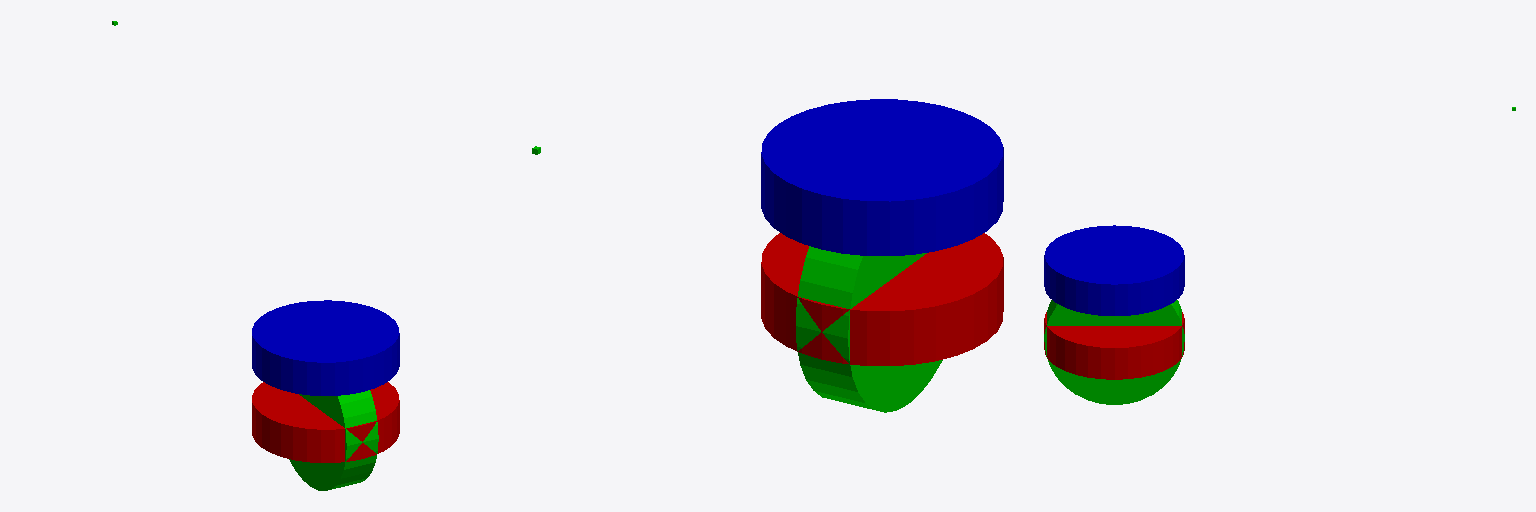
URDF robot description (mira):
<robot name="mira">

    <material name="blue">
        <color rgba="0 0 0.8 1"/>
    </material>
    <material name="red">
        <color rgba="0.8 0 0 1"/>
    </material>
    <material name="green">
        <color rgba="0 0.8 0 1"/>
    </material>

    <gazebo>
        <plugin name="gazebo_ros_control" filename="libgazebo_ros_control.so">
            <robotNamespace>/mira</robotNamespace>
        </plugin>
    </gazebo>

	<!-- * * * Link Definitions * * * -->
    <link name="base_link">
 	    <inertial>
            <origin xyz="0 0 0" rpy="0 0 0"/>
            <mass value="0.18" />
            <inertia ixx="0.0002835" ixy="0.0" ixz="0.0" iyy="0.0002835" iyz="0.0" izz="0.000324"/>
        </inertial>
        <collision>
            <origin xyz="0 0 0" rpy="0 0 0"/>
            <geometry>
                <cylinder radius="0.06" length="0.09"/>
            </geometry>
        </collision>
        <visual>
            <origin rpy="0.0 0 0" xyz="0 0 0"/>
            <geometry>
                <mesh filename="package://mira_description/models/mira/meshes/mira_body_v3.dae"/>
            </geometry>
        </visual>
	</link>

    <gazebo reference="roll_M1_link">
        <kp>1000.0</kp>
        <kd>10.0</kd>
        <mu1>10.0</mu1>
        <mu2>10.0</mu2>
    </gazebo>

    <link name="roll_M1_link">
        <!-- Inertial for gazebo to take it into account, Put 1gr weight -->
        <inertial>
            <origin xyz="0 0 0" rpy="0 0 0"/>
            <mass value="0.001" />
            <inertia ixx="2.70833333333e-08" ixy="0.0" ixz="0.0" iyy="2.70833333333e-08" iyz="0.0" izz="5e-08"/>
        </inertial>
        <visual>
            <origin rpy="0 0 0" xyz="0 0 0"/>
            <geometry>
                <cylinder length="0.005" radius="0.01"/>
            </geometry>
            <material name="red"/>
        </visual>
    </link>
    <!-- This is for color and physical properties in Gazebo, color won't work with the material tag in gazebo
    only for URDF coloring -->
    <gazebo reference="roll_M1_link">
        <kp>1000.0</kp>
        <kd>10.0</kd>
        <mu1>10.0</mu1>
        <mu2>10.0</mu2>
        <material>Gazebo/Red</material>
    </gazebo>

    <joint name="roll_joint" type="revolute">
    	<parent link="base_link"/>
    	<child link="roll_M1_link"/>
        <origin xyz="0.0023 0 -0.0005" rpy="0 0 0"/>
        <limit lower="-0.2" upper="0.2" effort="0.1" velocity="0.005"/>
        <axis xyz="1 0 0"/>
	</joint>

    <transmission name="tran1">
        <type>transmission_interface/SimpleTransmission</type>
        <joint name="roll_joint">
            <hardwareInterface>EffortJointInterface</hardwareInterface>
        </joint>
        <actuator name="motor1">
            <hardwareInterface>EffortJointInterface</hardwareInterface>
            <mechanicalReduction>1</mechanicalReduction>
        </actuator>
    </transmission>


    <link name="pitch_M2_link">
        <!-- Inertial for gazebo to take it into account, Put 1gr weight -->
        <inertial>
            <origin xyz="0 0 0" rpy="0 0 0"/>
            <mass value="0.001" />
            <inertia ixx="2.70833333333e-08" ixy="0.0" ixz="0.0" iyy="2.70833333333e-08" iyz="0.0" izz="5e-08"/>
        </inertial>
        <visual>
            <origin rpy="0 0 0" xyz="0 0 0"/>
            <geometry>
                <cylinder length="0.005" radius="0.01"/>
            </geometry>
            <material name="green"/>
        </visual>
    </link>

    <!-- This is for color and physical properties in Gazebo, color won't work with the material tag in gazebo
    only for URDF coloring -->
    <gazebo reference="pitch_M2_link">
        <kp>1000.0</kp>
        <kd>10.0</kd>
        <mu1>10.0</mu1>
        <mu2>10.0</mu2>
        <material>Gazebo/Green</material>
    </gazebo>

    <joint name="pitch_joint" type="revolute">
    	<parent link="roll_M1_link"/>
    	<child link="pitch_M2_link"/>
    	<origin xyz="0 0 0" rpy="0 -1.5708 0"/>
        <limit lower="0" upper="0.44" effort="0.1" velocity="0.005"/>
        <axis xyz="0 1 0"/>
	</joint>


    <link name="yaw_M3_link">
        <!-- Inertial for gazebo to take it into account, Put 1gr weight -->
        <inertial>
            <origin xyz="0 0 0" rpy="0 0 0"/>
            <mass value="0.001" />
            <inertia ixx="2.70833333333e-08" ixy="0.0" ixz="0.0" iyy="2.70833333333e-08" iyz="0.0" izz="5e-08"/>
        </inertial>
        <visual>
            <origin rpy="0 0 0" xyz="0 0 0"/>
            <geometry>
                <cylinder length="0.005" radius="0.01"/>
            </geometry>
            <material name="blue"/>
        </visual>
    </link>

    <!-- This is for color and physical properties in Gazebo, color won't work with the material tag in gazebo
    only for URDF coloring -->
    <gazebo reference="yaw_M3_link">
        <kp>1000.0</kp>
        <kd>10.0</kd>
        <mu1>10.0</mu1>
        <mu2>10.0</mu2>
        <material>Gazebo/Blue</material>
    </gazebo>


    <joint name="yaw_joint" type="continuous">
    	<parent link="pitch_M2_link"/>
    	<child link="yaw_M3_link"/>
        <origin xyz="0.01 0 0" rpy="0 1.5708 0"/>
        <limit effort="0.1" velocity="0.01"/>
        <axis xyz="0 0 1"/>
	</joint>


    <link name="head_link">
 	    <inertial>
            <origin xyz="0 0 0" rpy="0 0 0"/>
            <mass value="0.02" />
            <inertia ixx="2.61666666667e-05" ixy="0.0" ixz="0.0" iyy="2.61666666667e-05" iyz="0.0" izz="3.6e-05"/>
        </inertial>
        <collision>
            <origin xyz="0 0 0.015" rpy="0 0 0"/>
            <geometry>
                <!--
                <cylinder radius="0.06" length="0.035"/>
                -->
                <sphere radius="0.06"/>
            </geometry>
        </collision>
		<visual>
            <origin rpy="0.0 0 0" xyz="0 0 0"/>
            <geometry>
                <mesh filename="package://mira_description/models/mira/meshes/mira_head_v5.dae"/>
            </geometry>
        </visual>
	</link>


    <joint name="base_head_joint" type="fixed">
    	<parent link="yaw_M3_link"/>
    	<child link="head_link"/>
    	<origin xyz="0 0 0" rpy="0 0 0"/>
	</joint>

    <link name="left_eye_link">
        <!-- Inertial for gazebo to take it into account, Put 1gr weight -->
        <inertial>
            <origin xyz="0 0 0" rpy="0 0 0"/>
            <mass value="0.001" />
            <inertia ixx="9.1875e-09" ixy="0.0" ixz="0.0" iyy="9.1875e-09" iyz="0.0" izz="1.378125e-08"/>
        </inertial>
		<visual>
            <origin rpy="0.0 0 0" xyz="0 0 0"/>
            <geometry>
                <!--
                <cylinder radius="0.00525" length="0.00525"/>
                -->
                <mesh filename="package://mira_description/models/mira/meshes/mira_eye_v4.dae"/>
            </geometry>
        </visual>
	</link>

    <link name="right_eye_link">
        <!-- Inertial for gazebo to take it into account, Put 1gr weight -->
        <inertial>
            <origin xyz="0 0 0" rpy="0 0 0"/>
            <mass value="0.001" />
            <inertia ixx="9.1875e-09" ixy="0.0" ixz="0.0" iyy="9.1875e-09" iyz="0.0" izz="1.378125e-08"/>
        </inertial>
		<visual>
            <origin rpy="0.0 0 0" xyz="0 0 0"/>
            <geometry>
                <!--
                <cylinder radius="0.00525" length="0.00525"/>
                -->
                <mesh filename="package://mira_description/models/mira/meshes/mira_eye_v4.dae"/>
            </geometry>
        </visual>
	</link>

    <joint name="head_lefteye_joint" type="fixed">
        <parent link="head_link"/>
        <child link="left_eye_link"/>
        <origin xyz="0.0095 0.057 0.0085" rpy="-1.5708 0 0"/>
    </joint>

    <joint name="head_righteye_joint" type="fixed">
        <parent link="head_link"/>
        <child link="right_eye_link"/>
        <origin xyz="-0.0095 0.057 0.0085" rpy="-1.5708 0 0"/>
    </joint>

    <link name="camera_link">
        <!-- Inertial for gazebo to take it into account, Put 1gr weight -->
        <inertial>
            <origin xyz="0 0 0" rpy="0 0 0"/>
            <mass value="0.001" />
            <inertia ixx="9.1875e-09" ixy="0.0" ixz="0.0" iyy="9.1875e-09" iyz="0.0" izz="1.378125e-08"/>
        </inertial>
		<visual>
            <origin rpy="0.0 0 0" xyz="0 0 0"/>
            <geometry>
                <box size="0.0005 0.0005 0.0005"/>
            </geometry>
            <material name="green"/>
        </visual>
	</link>

    <gazebo reference="camera_link">
        <material>Gazebo/Green</material>
    </gazebo>

    <joint name="head_camera_joint" type="fixed">
        <parent link="head_link"/>
        <child link="camera_link"/>
        <origin xyz="0 0.057 0.0255" rpy="0 0 0"/>
    </joint>



</robot>

--- Facts derived from the render (not from the file) ---
3 views of the same robot in one strip: view 1: azimuth 30°, elevation 25°; view 2: azimuth 150°, elevation 25°; view 3: azimuth 270°, elevation 25° (orthographic).
Model mira with 8 links and 7 joints (2 revolute, 1 continuous, 4 fixed), rooted at base_link, posed all joints at 0.
Visible links, largest first — view 1: yaw_M3_link, roll_M1_link, pitch_M2_link; view 2: yaw_M3_link, roll_M1_link, pitch_M2_link; view 3: yaw_M3_link, roll_M1_link, pitch_M2_link.
Link boxes in pixels (box(x1,y1,x2,y2)): yaw_M3_link: box(252, 300, 399, 395); roll_M1_link: box(252, 382, 399, 462); pitch_M2_link: box(289, 390, 378, 490); yaw_M3_link: box(761, 99, 1003, 255); roll_M1_link: box(761, 233, 1003, 365); pitch_M2_link: box(796, 246, 942, 412); yaw_M3_link: box(1044, 225, 1184, 315); roll_M1_link: box(1044, 312, 1184, 379); pitch_M2_link: box(1044, 300, 1184, 404).
Size in the robot's own frame: 0.02 by 0.0672 by 0.0458 metres.
Meshes: 3 distinct files referenced, 0 mesh visuals loaded (none loaded); not drawn: 4 (reference not matched to a file when rendering).
